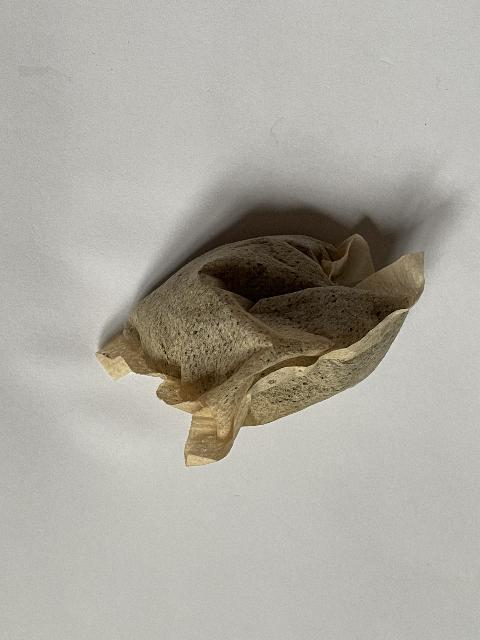teabag: (93, 230, 428, 470)
